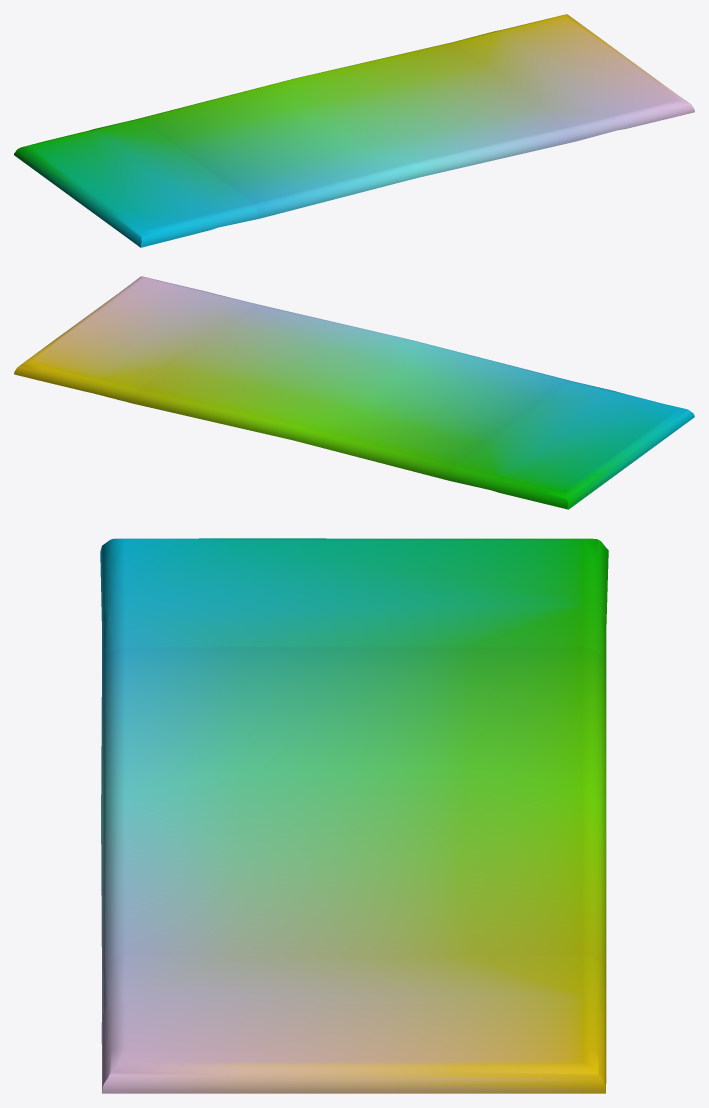
File: SM_ROAD_27_10_0_0_road.FBX
The picture shows the model from 3 angles, top to bottom: view 1: azimuth 30°, elevation 25°; view 2: azimuth 150°, elevation 25°; view 3: azimuth 270°, elevation 25°; orthographic projection. The views are drawn at different scales.
Visible parts, largest first — view 1: SM_ROAD_27_10_0_0_road; view 2: SM_ROAD_27_10_0_0_road; view 3: SM_ROAD_27_10_0_0_road.
Part boxes in pixels (bbox=[...]): SM_ROAD_27_10_0_0_road: bbox=[14, 14, 694, 247]; SM_ROAD_27_10_0_0_road: bbox=[14, 276, 694, 509]; SM_ROAD_27_10_0_0_road: bbox=[100, 538, 608, 1093].
Size of the model in its own units: 2804 by 1113 by 63.3.
